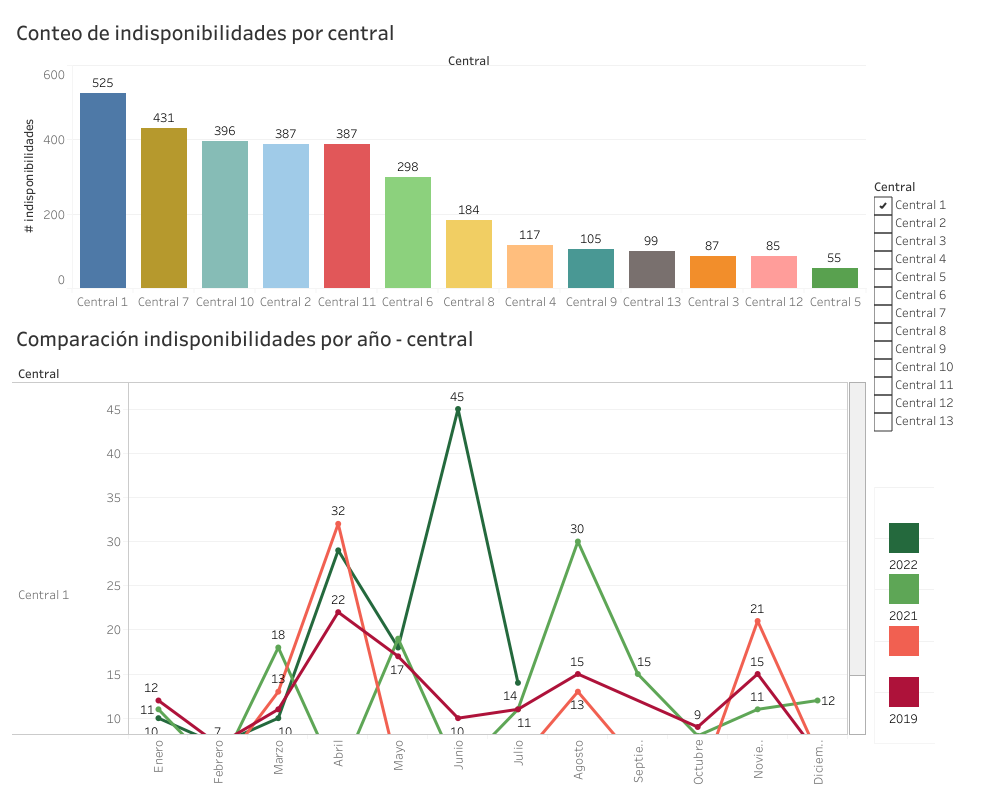

What the dashboard file says about the page in this screenshot:
{"tool":"tableau","page":{"name":"DshB1","canvas":[1000,800],"ordinal":0},"visuals":[{"type":"worksheet","title":"V1","mark":"Automatic","rows":["Causa"],"cols":["Central"],"box":[8,8,862,306]},{"type":"filter","title":"IndAño","param":"[federated.0b2l14111demyc19wrfmd12f4dte].[none:Central:nk]","box":[870,172,122,296]},{"type":"worksheet","title":"IndAño","mark":"Line","rows":["Central","Causa"],"cols":["Calculation_1014435877649276929"],"box":[8,314,862,478]},{"type":"worksheet","title":"leyend","mark":"Square","rows":["año"],"box":[870,468,122,279]}]}

Visuals, with their boxes in screenshot pixels (x1, y1, x2, y2), scaled from the page's 1000x800 canvas onto the 999x799 screenshot:
"V1" worksheet: {"left": 8, "top": 8, "right": 869, "bottom": 314}
"IndAño" filter: {"left": 869, "top": 172, "right": 991, "bottom": 467}
"IndAño" worksheet (Line marks): {"left": 8, "top": 314, "right": 869, "bottom": 791}
"leyend" worksheet (Square marks): {"left": 869, "top": 467, "right": 991, "bottom": 746}
